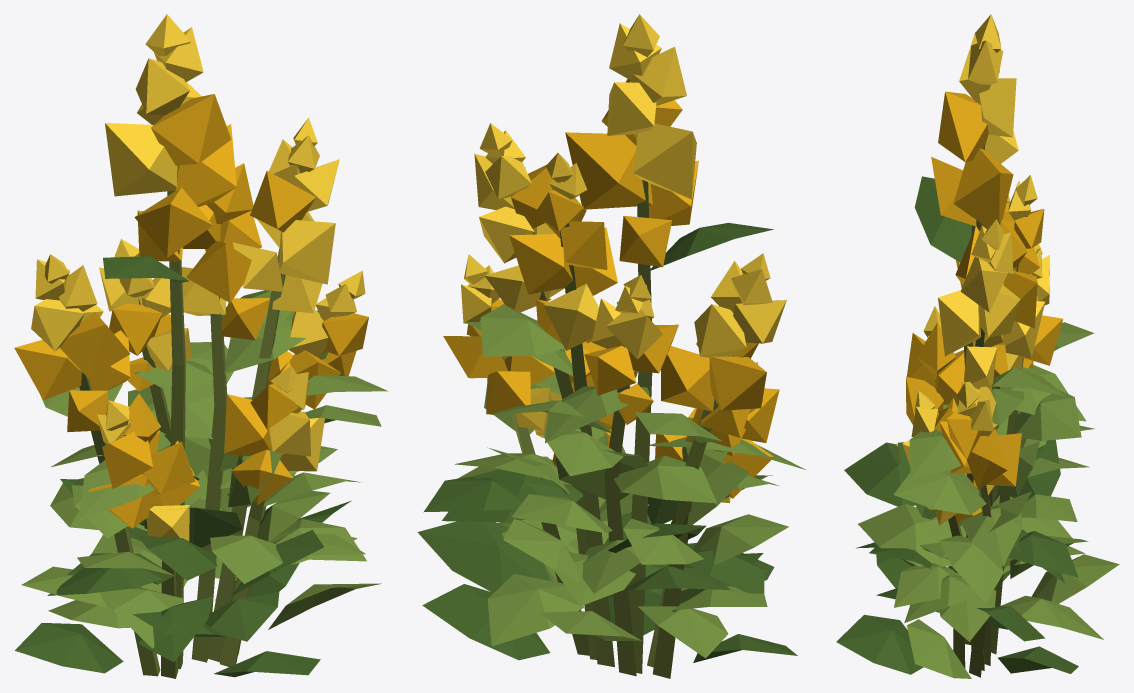
The picture shows the model from 3 angles, left to right: view 1: azimuth 30°, elevation 25°; view 2: azimuth 150°, elevation 25°; view 3: azimuth 270°, elevation 25°; orthographic projection. The views are drawn at different scales.
Visible parts, largest first — view 1: plumes_gold, plumes_light, leaves_green, leaves_dark, stems; view 2: leaves_green, plumes_gold, plumes_light, leaves_dark, stems; view 3: leaves_green, plumes_gold, plumes_light, leaves_dark, stems.
Part boxes in pixels (x1,y1,x2,y2): plumes_gold: (14,94,368,528); plumes_light: (31,14,365,541); leaves_green: (21,290,388,648); leaves_dark: (15,256,351,677); stems: (79,190,328,678); leaves_green: (455,304,805,658); plumes_gold: (443,79,779,498); plumes_light: (461,14,786,503); leaves_dark: (417,223,797,662); stems: (503,143,733,678); leaves_green: (858,322,1119,678); plumes_gold: (906,91,1062,522); plumes_light: (896,14,1049,525); leaves_dark: (836,176,1078,674); stems: (948,145,1023,677).
Size of the model in its own units: 0.4793 by 0.837 by 0.3405.
